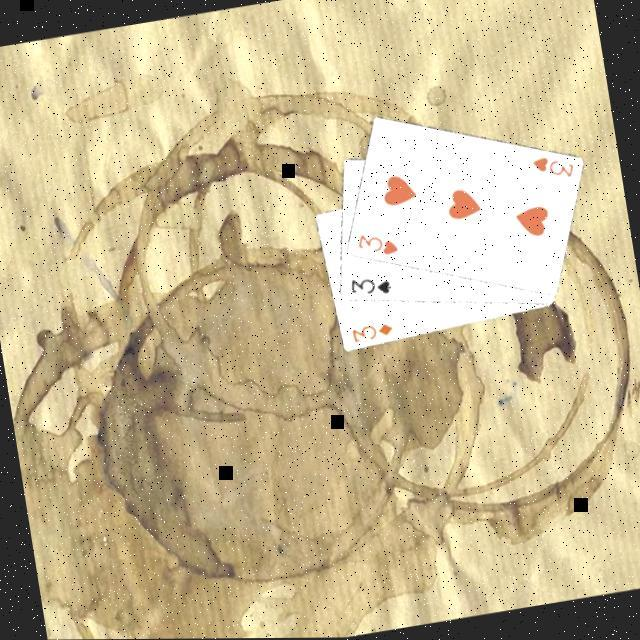3D: (346, 321, 396, 350)
3H: (350, 228, 400, 267), (526, 152, 576, 190)
3S: (344, 273, 394, 306)
